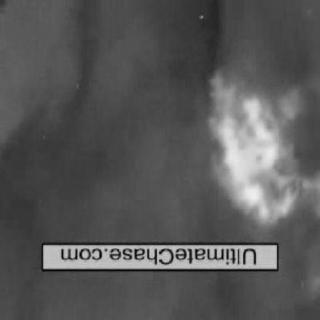Smoke: (10, 14, 206, 226), (11, 273, 305, 316)
